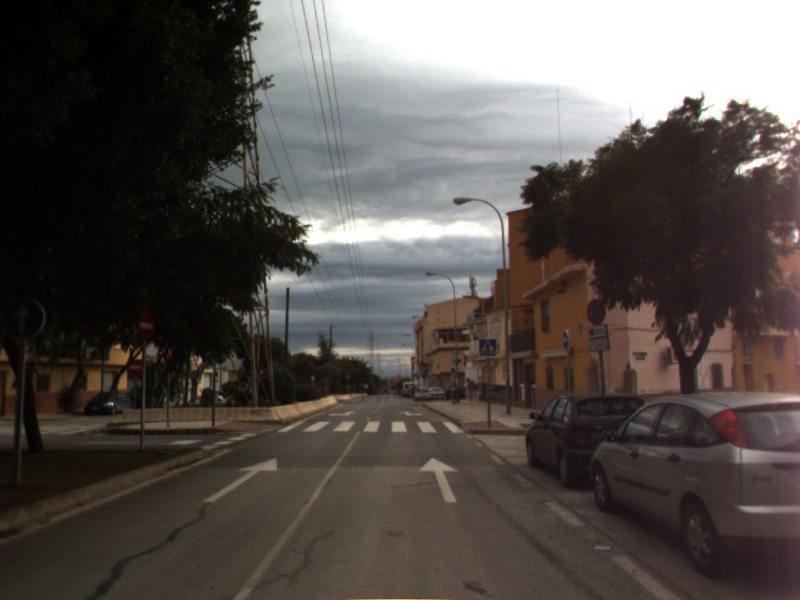STRAIGHT: (201, 456, 279, 504), (416, 455, 461, 505)
STRAIGHT_LEFT: (327, 409, 358, 418)
STRAIGHT_RIGHT: (399, 409, 425, 418)
